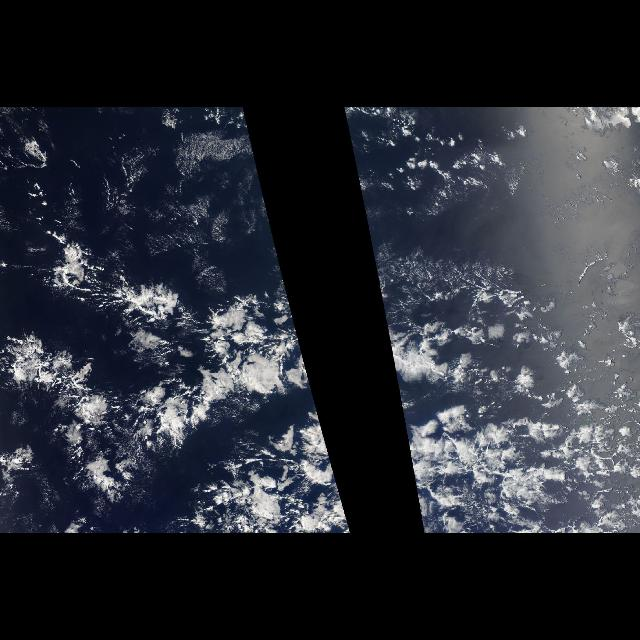Fish: (12, 214, 336, 512), (372, 247, 524, 478)
Flower: (2, 216, 186, 524), (402, 418, 634, 532), (231, 418, 353, 532)
Sugar: (8, 114, 280, 270), (346, 114, 490, 270)
